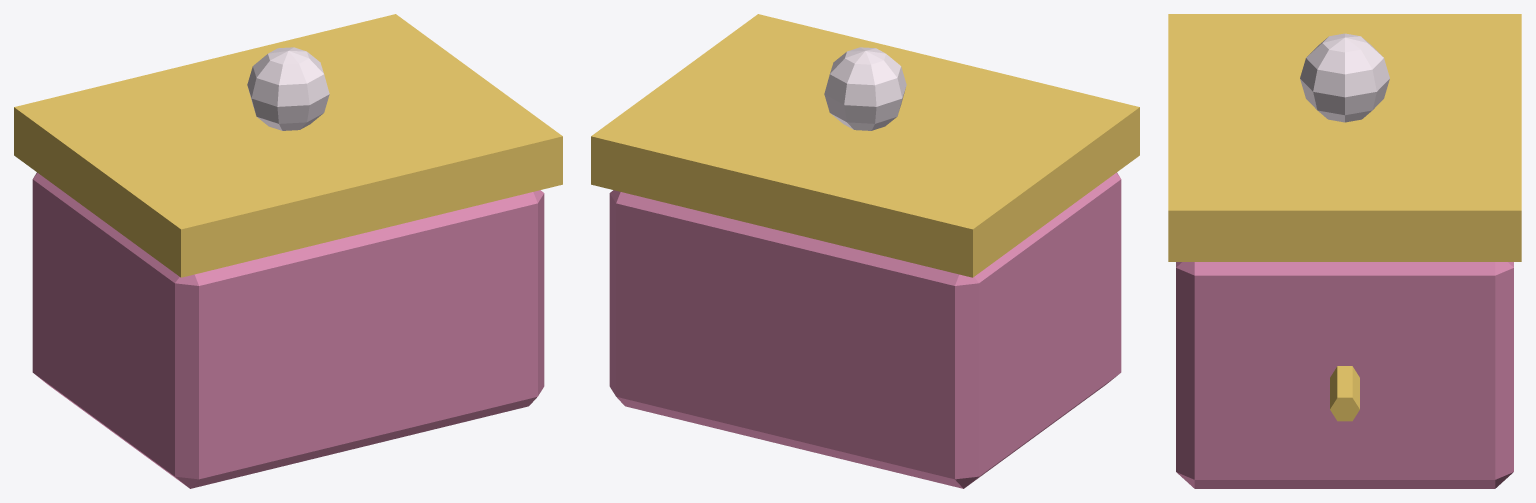
Rendered from music_box.glb.
3 renders of one model, left to right at view 1: azimuth 30°, elevation 25°; view 2: azimuth 150°, elevation 25°; view 3: azimuth 270°, elevation 25°, orthographic. The views are drawn at different scales.
Visible parts, largest first — view 1: music_box; view 2: music_box; view 3: music_box.
Part boxes in pixels (bbox=[...]): music_box: bbox=[14, 14, 562, 488]; music_box: bbox=[591, 14, 1139, 488]; music_box: bbox=[1168, 14, 1521, 488].
Bounding box in the file's own units: 0.142 × 0.107 × 0.094.
